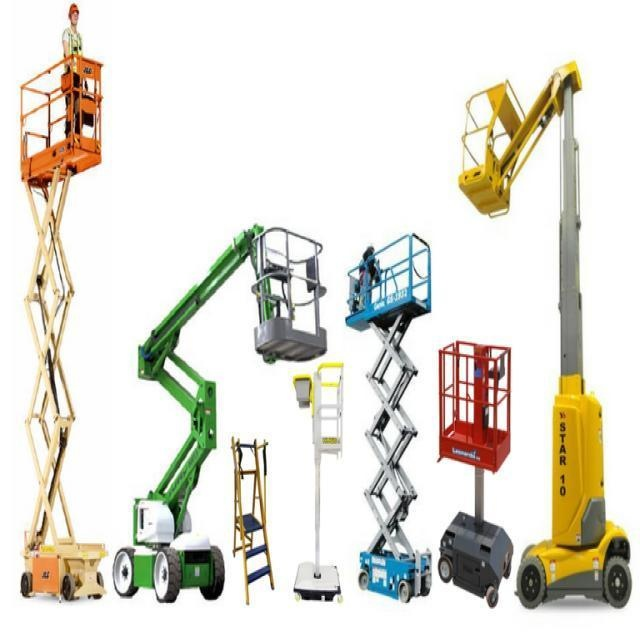Arnes_seguridad: (63, 27, 81, 77)
